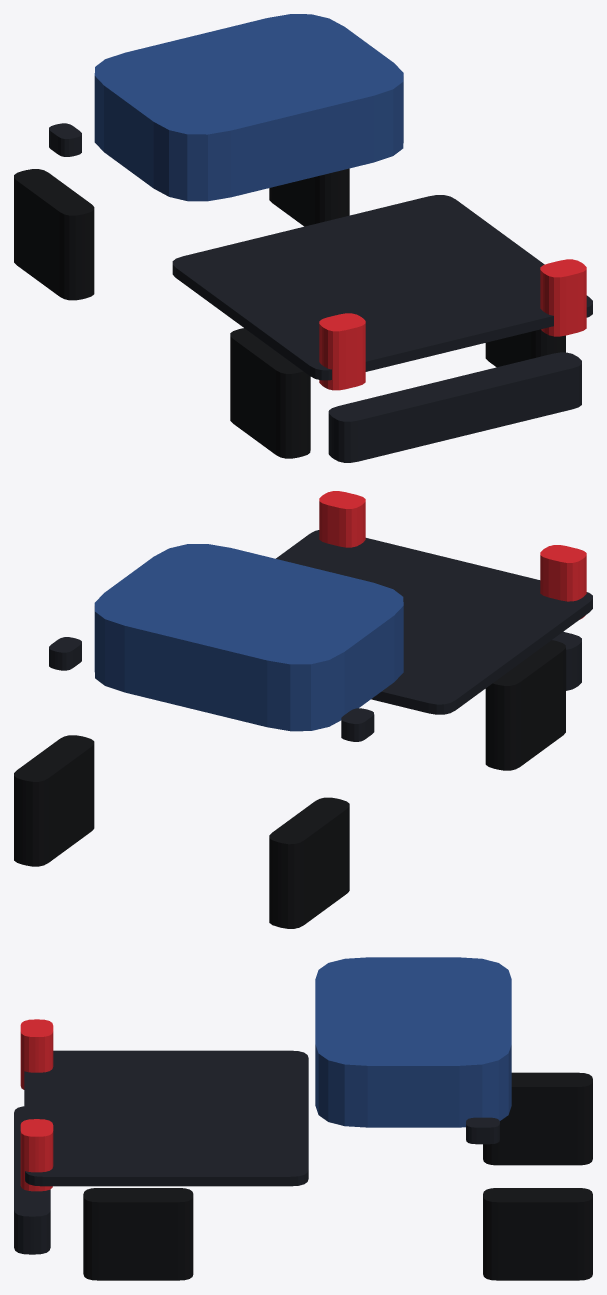
File: car_parts_pickup.glb
3 views of the same model, one above another, from view 1: azimuth 30°, elevation 25°; view 2: azimuth 150°, elevation 25°; view 3: azimuth 270°, elevation 25° (orthographic). The views are drawn at different scales.
Bounding box in the file's own units: 2.56 × 1.72 × 4.42.
